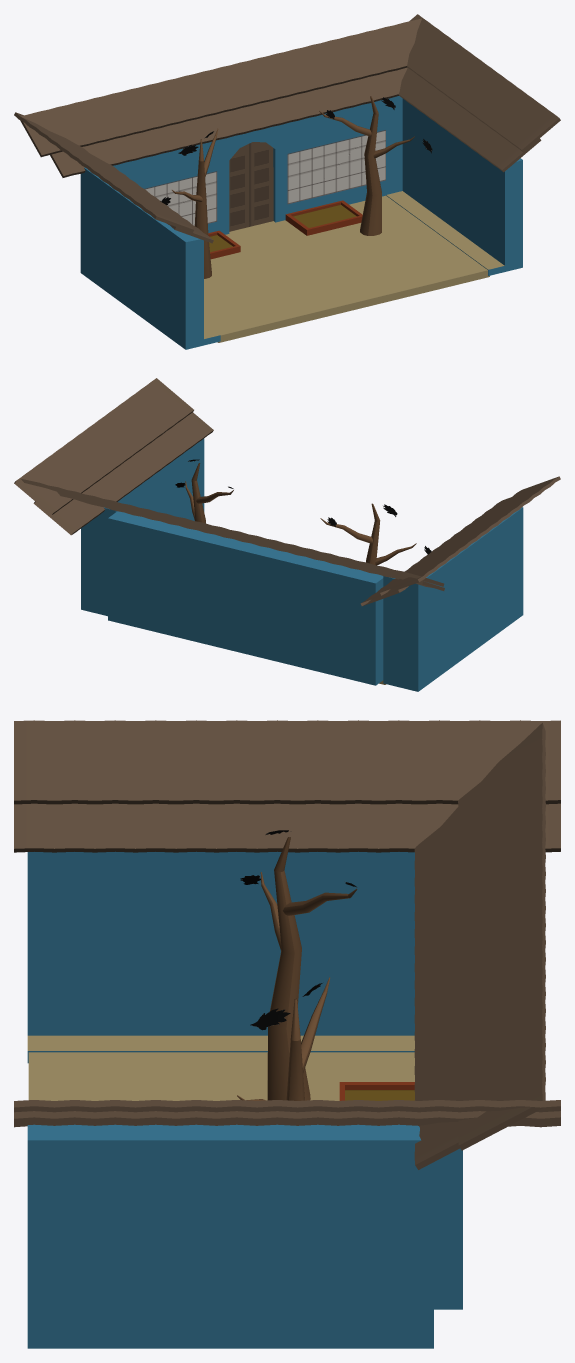
File: Dojo-Background (1).fbx
The picture shows the model from 3 angles, top to bottom: view 1: azimuth 30°, elevation 25°; view 2: azimuth 150°, elevation 25°; view 3: azimuth 270°, elevation 25°; orthographic projection. The views are drawn at different scales.
Visible parts, largest first — view 1: Floor2, Back_Wall, Roof_back_Top, right_Wall, right_Wall1, Roof_back_buttom, Roof_right_top, Roof_right_buttom, Roof_left_top, Tree, plant_pot_right, Tree6 (+2 smaller); view 2: Back_Wall, right_Wall1, Roof_right_top, right_Wall, Roof_right_buttom, Roof_left_top, Roof_back_Top, Roof_back_buttom, Tree6, Roof_left_buttom, Tree; view 3: right_Wall, right_Wall1, Roof_left_top, Roof_back_Top, Roof_left_buttom, Floor2, Roof_back_buttom, Roof_right_buttom, Roof_right_top, Tree6, Back_Wall, plant_pot_right1 (+1 smaller).
Part boxes in pixels (left/top/right/bottom): Floor2: left=204, top=195, right=489, bottom=342; Back_Wall: left=118, top=100, right=385, bottom=234; Roof_back_Top: left=20, top=18, right=421, bottom=157; right_Wall: left=386, top=96, right=522, bottom=275; right_Wall1: left=80, top=165, right=220, bottom=349; Roof_back_buttom: left=50, top=67, right=407, bottom=177; Roof_right_top: left=407, top=14, right=560, bottom=152; Roof_right_buttom: left=398, top=67, right=541, bottom=172; Roof_left_top: left=14, top=112, right=193, bottom=232; Tree: left=360, top=96, right=381, bottom=235; plant_pot_right: left=285, top=200, right=362, bottom=235; Tree6: left=160, top=128, right=218, bottom=278; Back_Wall: left=108, top=511, right=383, bottom=685; right_Wall1: left=383, top=507, right=523, bottom=691; Roof_right_top: left=14, top=378, right=193, bottom=515; right_Wall: left=81, top=438, right=204, bottom=616; Roof_right_buttom: left=33, top=412, right=213, bottom=535; Roof_left_top: left=380, top=476, right=560, bottom=595; Roof_back_Top: left=21, top=479, right=444, bottom=586; Roof_back_buttom: left=57, top=492, right=444, bottom=590; Tree6: left=320, top=503, right=431, bottom=565; Roof_left_buttom: left=360, top=497, right=511, bottom=606; Tree: left=191, top=463, right=205, bottom=523; right_Wall: left=27, top=1124, right=433, bottom=1348; right_Wall1: left=27, top=851, right=414, bottom=1063; Roof_left_top: left=14, top=720, right=560, bottom=804; Roof_back_Top: left=458, top=723, right=545, bottom=1150; Roof_left_buttom: left=14, top=803, right=560, bottom=852; Floor2: left=28, top=1052, right=414, bottom=1100; Roof_back_buttom: left=414, top=807, right=459, bottom=1169; Roof_right_buttom: left=14, top=1111, right=560, bottom=1127; Roof_right_top: left=14, top=1100, right=560, bottom=1112; Tree6: left=240, top=830, right=357, bottom=1100; Back_Wall: left=434, top=1148, right=462, bottom=1309; plant_pot_right1: left=339, top=1082, right=414, bottom=1100.
Bounding box in the file's own units: 22.52 × 7.75 × 13.6.
